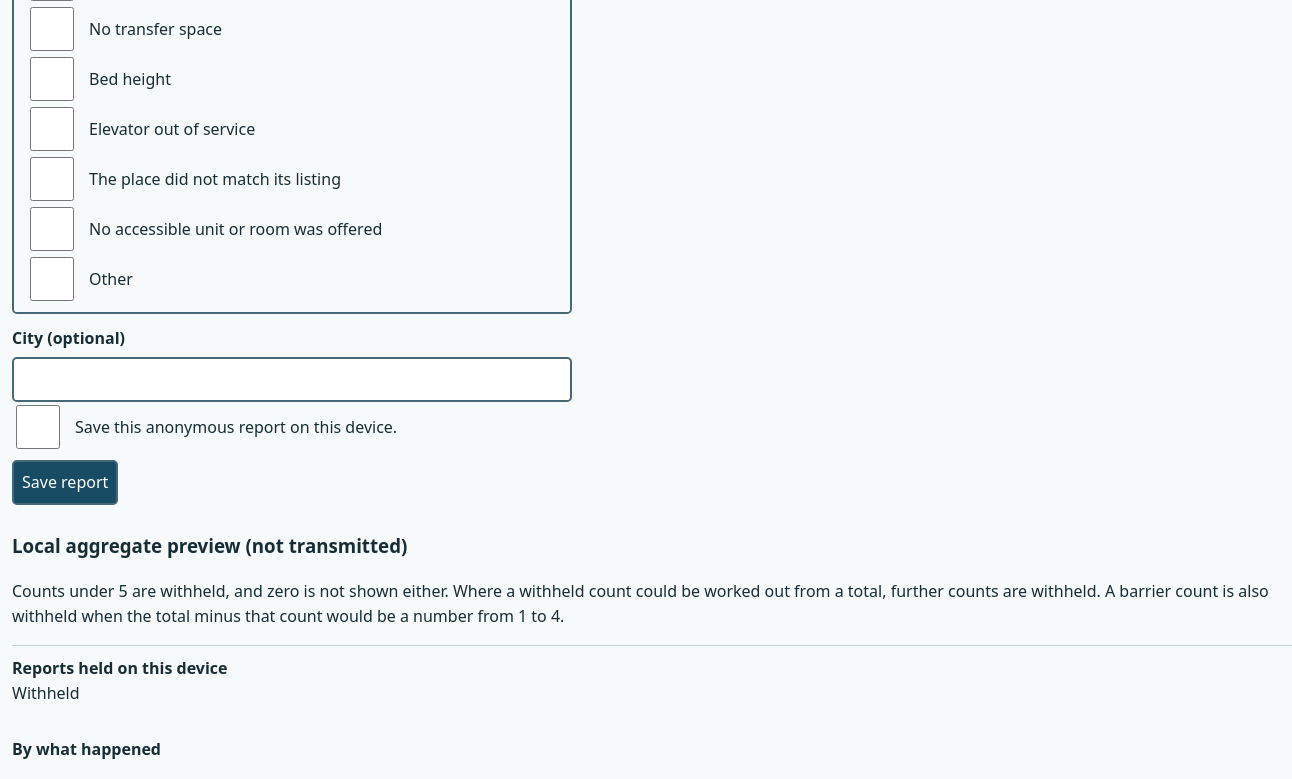
Test: barrier and wait report form › rejects a city entry that is not a place name
The image size is (1292, 779).
(page scrolled)
In the field labelled "City (optional)": [292, 380] box [12,357,572,402], type "phone 555 0100"
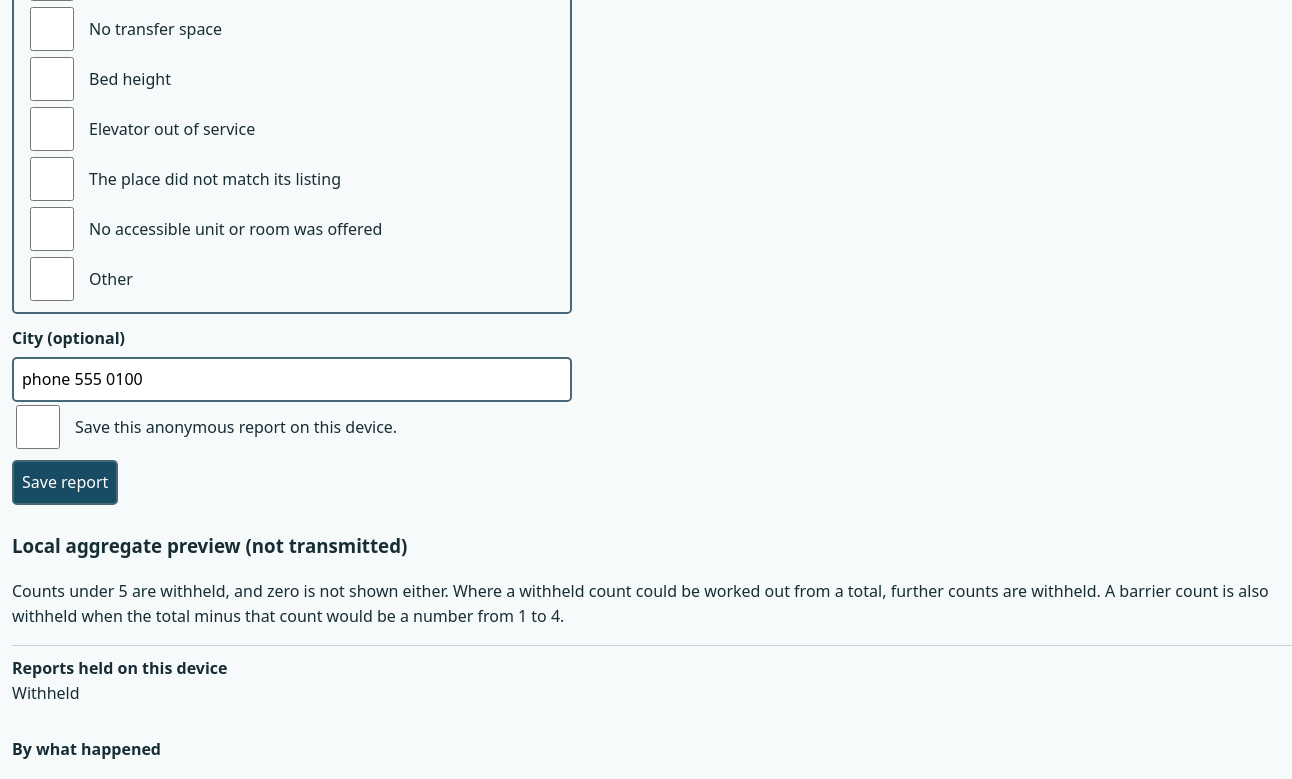
Click the checkbox labelled "Save this anonymous report on this device.": [38, 427] box [16,405,60,449]
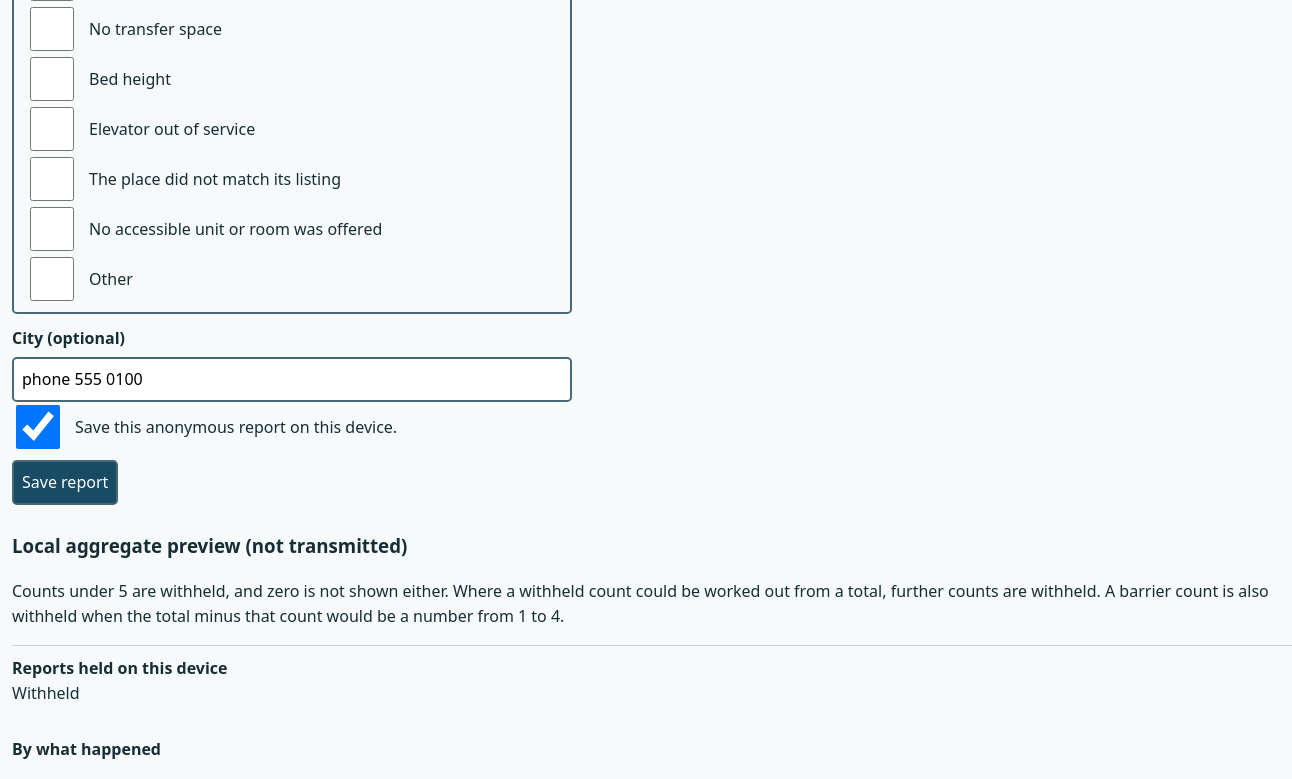
Click the button "Save report": [65, 482] box [12,460,118,505]
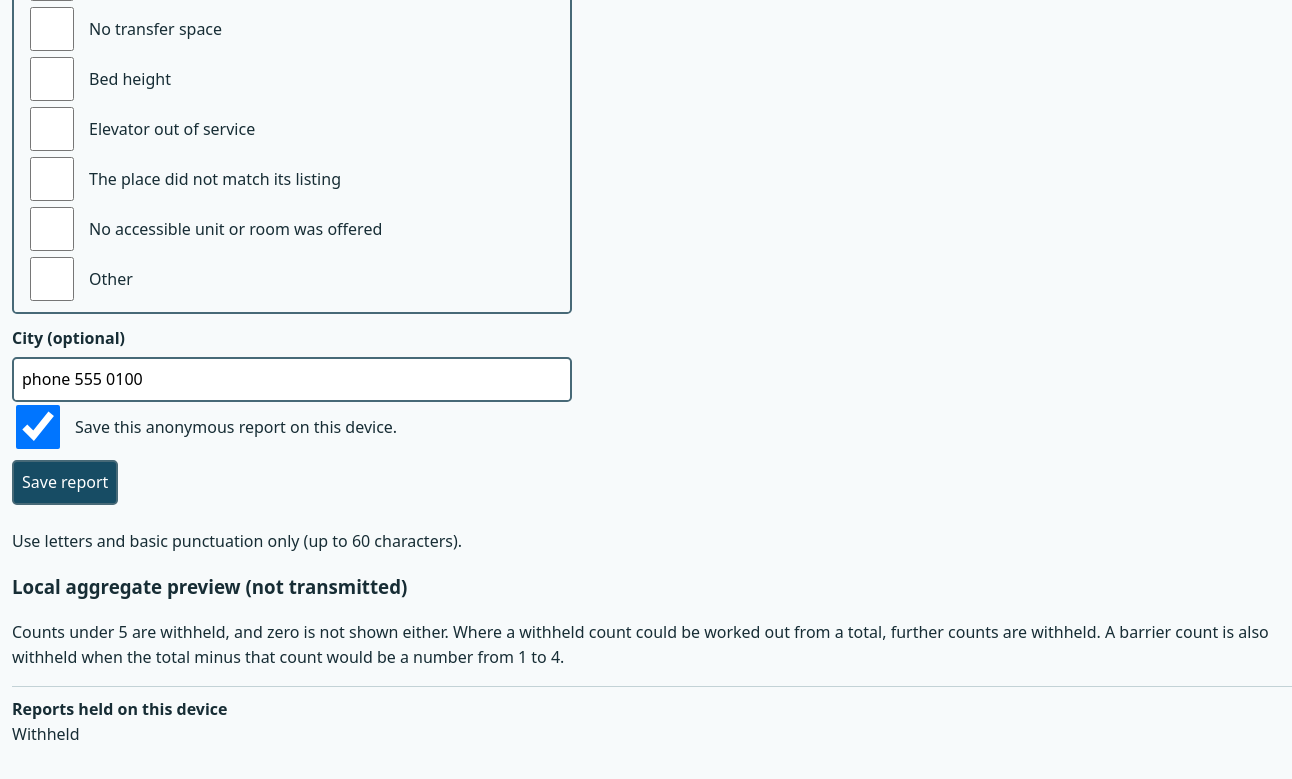
Expected: the text "Use letters and basic punctuation only (up to 60 characters)." is shown, [12,530,462,552]
